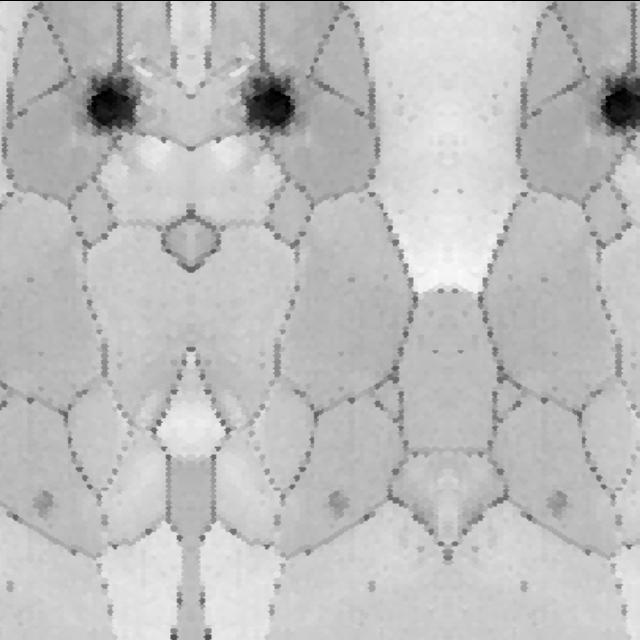good_void: (237, 68, 314, 150), (69, 68, 145, 150), (584, 68, 640, 150), (327, 489, 351, 520), (547, 489, 571, 520), (32, 489, 55, 520), (365, 576, 379, 594), (519, 576, 533, 594), (3, 576, 17, 594), (22, 271, 36, 289), (347, 271, 360, 289), (538, 271, 551, 289), (429, 345, 443, 357), (455, 345, 469, 357), (429, 185, 442, 195), (456, 185, 469, 195), (436, 285, 448, 295), (450, 285, 462, 295), (215, 132, 224, 145), (159, 132, 168, 145), (347, 393, 358, 402), (540, 393, 551, 402), (25, 393, 36, 402)
